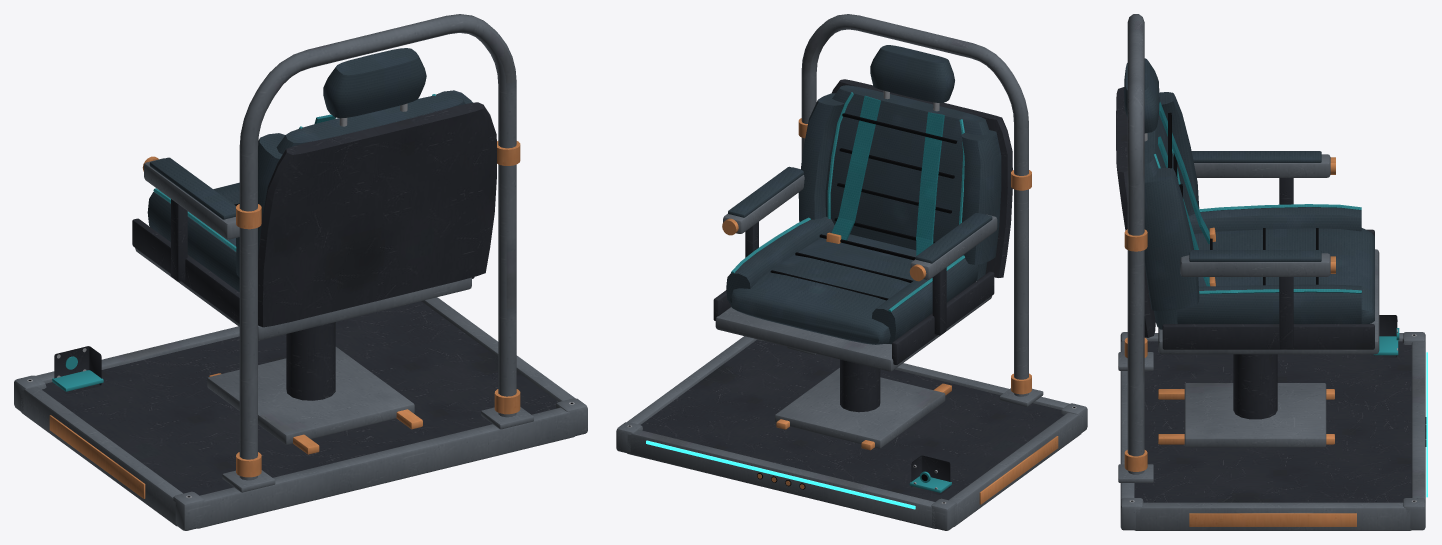
File: passenger_seat_4.glb
3 renders of one model, left to right at view 1: azimuth 30°, elevation 25°; view 2: azimuth 150°, elevation 25°; view 3: azimuth 270°, elevation 25°, orthographic. The views are drawn at different scales.
Parts seen in each view (by area): view 1: ShellFrame, Base, Hoop, Backrest, Cushion; view 2: Base, Backrest, ShellFrame, Cushion, Hoop, RunningLight; view 3: Base, ShellFrame, Cushion, Backrest, Hoop.
Boxes of the visible parts, left/top/right/bottom form: ShellFrame: left=132, top=102, right=496, bottom=444; Base: left=14, top=297, right=587, bottom=530; Hoop: left=222, top=14, right=533, bottom=492; Backrest: left=236, top=48, right=472, bottom=277; Cushion: left=147, top=182, right=239, bottom=291; Base: left=616, top=336, right=1087, bottom=530; Backrest: left=798, top=45, right=1001, bottom=280; ShellFrame: left=713, top=79, right=1012, bottom=448; Cushion: left=726, top=216, right=978, bottom=344; Hoop: left=787, top=14, right=1043, bottom=406; RunningLight: left=646, top=440, right=915, bottom=509; Base: left=1120, top=315, right=1426, bottom=530; ShellFrame: left=1116, top=87, right=1379, bottom=447; Cushion: left=1177, top=204, right=1374, bottom=323; Backrest: left=1124, top=58, right=1215, bottom=329; Hoop: left=1118, top=14, right=1153, bottom=482.
Size of the model in its own units: 0.948 by 0.9831 by 0.7054.
Materials: 10 (7 with a texture image).
